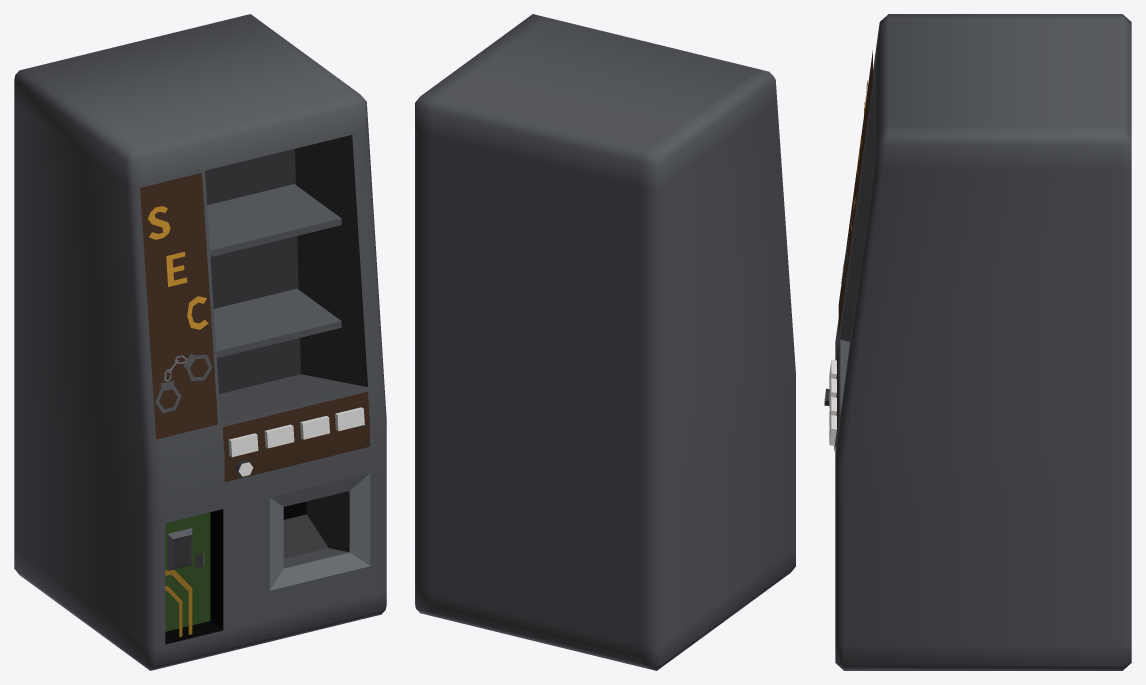
File: SecTech.glb
3 renders of one model, left to right at view 1: azimuth 30°, elevation 25°; view 2: azimuth 150°, elevation 25°; view 3: azimuth 270°, elevation 25°, orthographic. The views are drawn at different scales.
Visible parts, largest first — view 1: SecTech; view 2: SecTech; view 3: SecTech.
Part boxes in pixels (bbox=[...]): SecTech: bbox=[14, 14, 386, 670]; SecTech: bbox=[415, 14, 795, 670]; SecTech: bbox=[824, 14, 1131, 670].
Size of the model in its own units: 0.9 by 1.8 by 0.933.
Materials: 2 (1 with a texture image).
